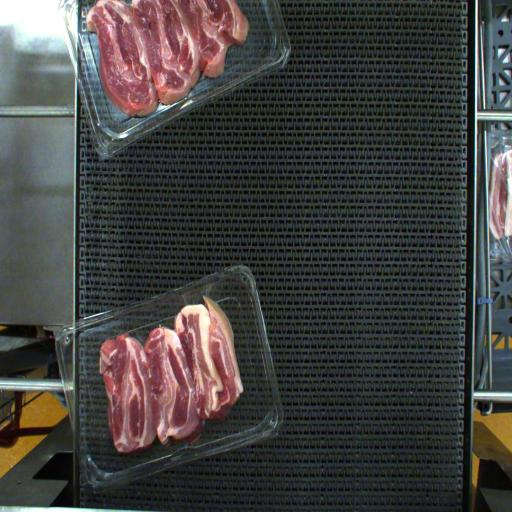packaging-error: (171, 271, 216, 308)
